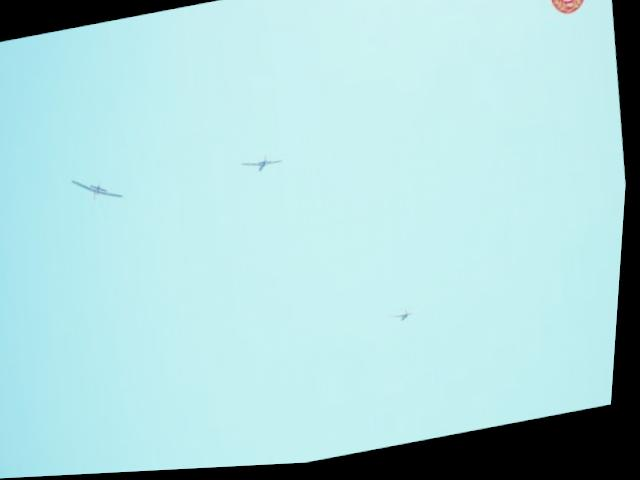uav: (68, 168, 130, 212), (240, 151, 288, 179), (390, 310, 425, 329)
